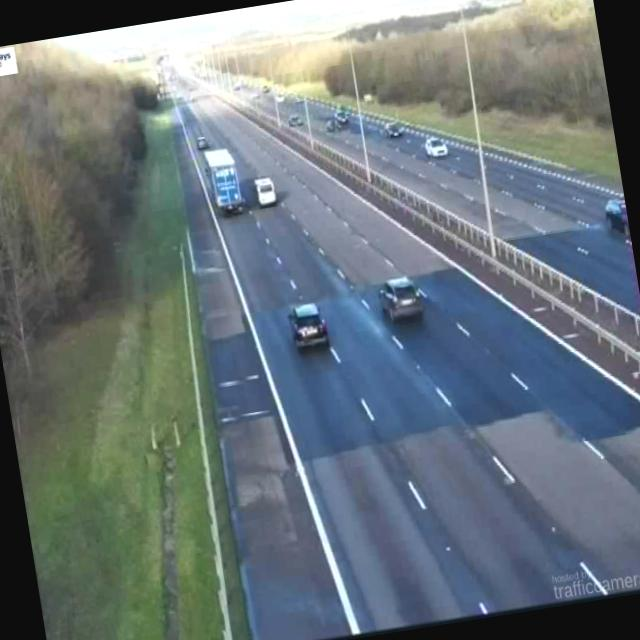foliage: (0, 40, 156, 422), (466, 3, 620, 172), (355, 26, 470, 114), (318, 52, 354, 95)
